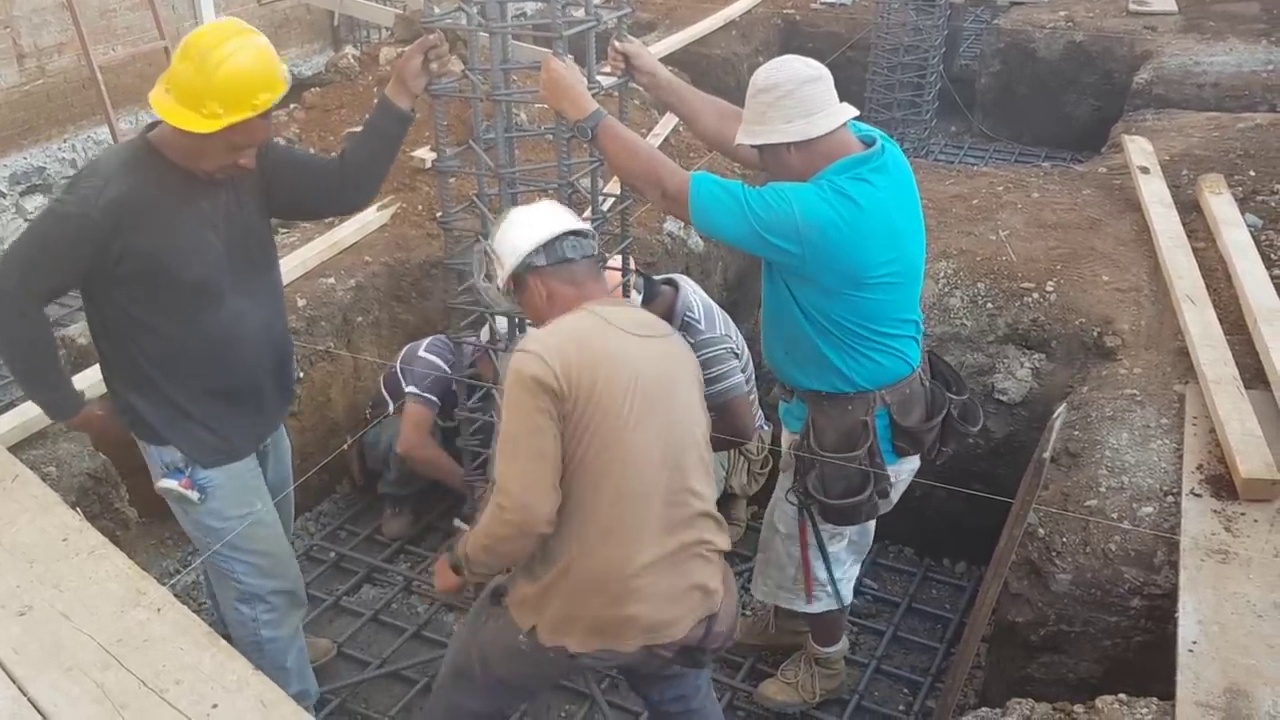helmet: (138, 5, 296, 136), (482, 199, 597, 301), (585, 244, 654, 326)
helmet-off: (727, 54, 866, 184)
helmet-on: (136, 14, 296, 180), (481, 196, 627, 332), (588, 239, 691, 336)
person: (546, 33, 952, 712), (0, 0, 369, 687), (419, 186, 739, 714), (588, 236, 770, 537), (373, 302, 508, 528)
